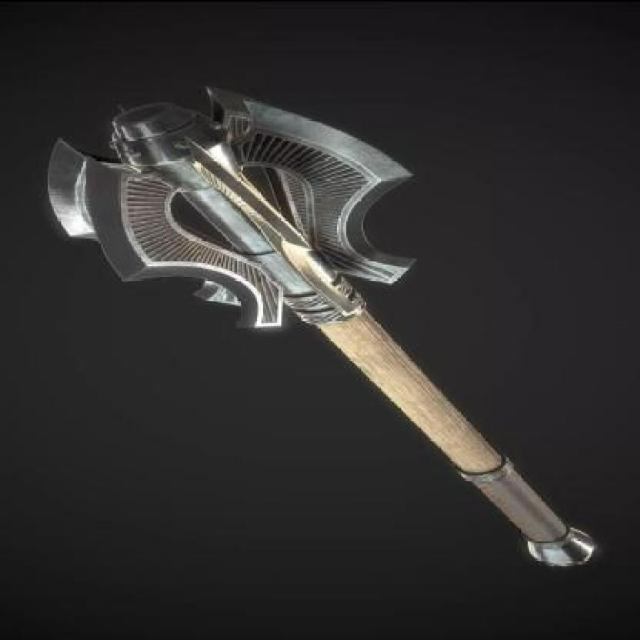weapon: (43, 81, 612, 568)
